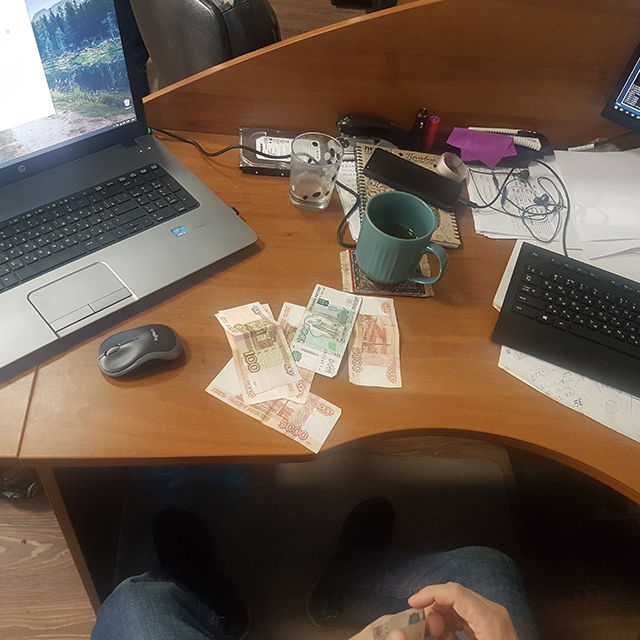banknotes: (207, 353, 339, 450), (220, 301, 309, 402), (292, 286, 356, 377), (349, 292, 404, 387)
